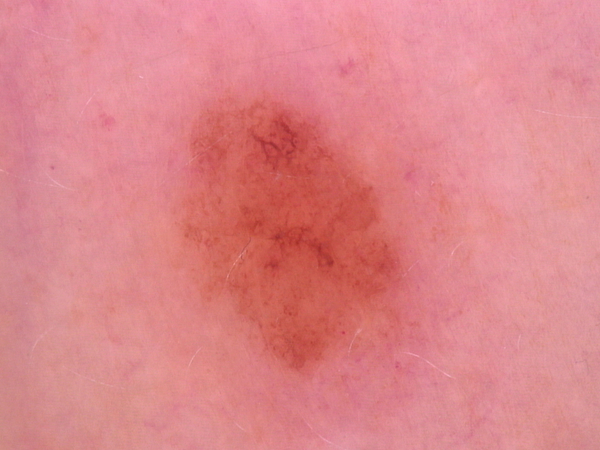Detected Lesion: (173, 88, 416, 379)
